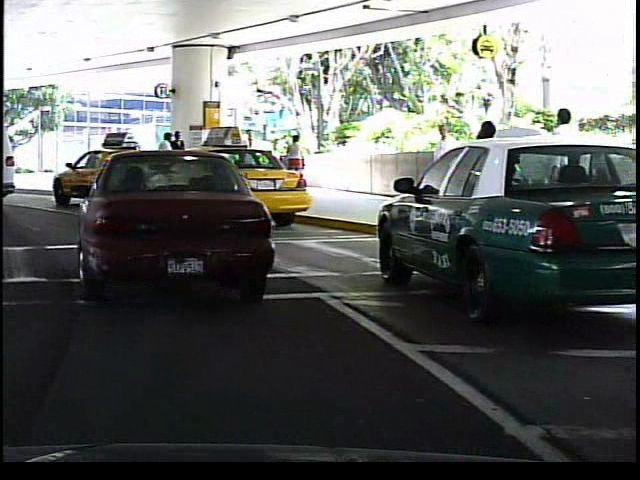person: (470, 110, 519, 237), (542, 102, 586, 236), (427, 117, 463, 211), (237, 124, 263, 190), (282, 131, 308, 191), (155, 131, 177, 190), (170, 128, 189, 190)
